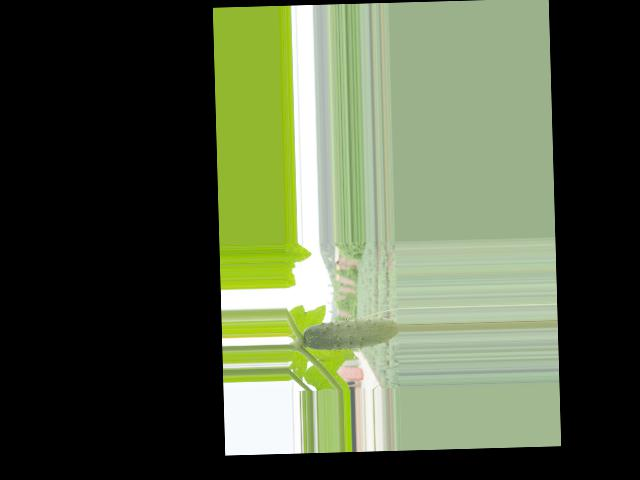cucumber: (303, 317, 399, 350)
